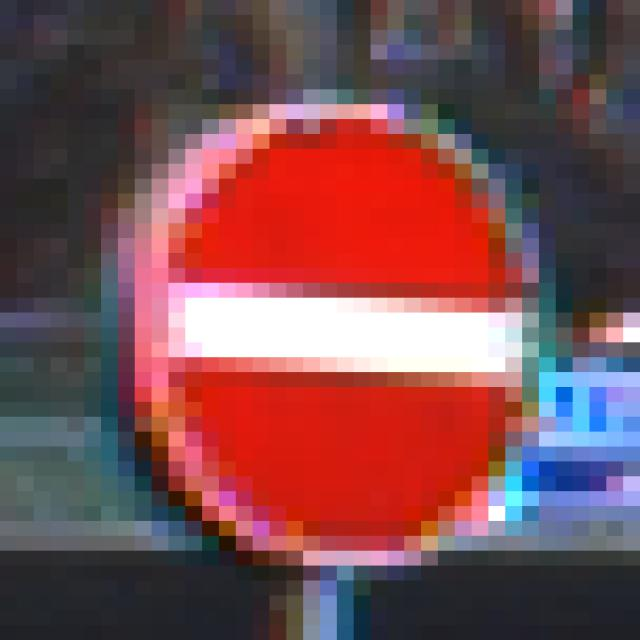No Entry: (102, 90, 557, 567)
